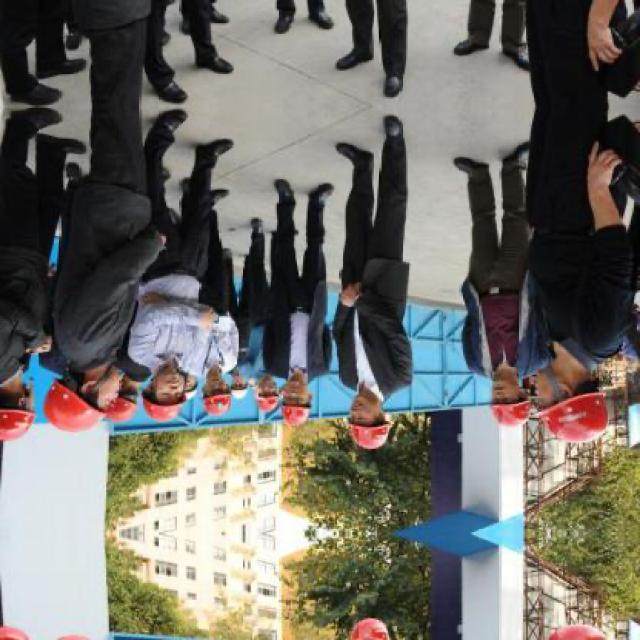con casco: (519, 304, 624, 454), (50, 344, 130, 458), (462, 352, 546, 445), (270, 348, 333, 439), (334, 385, 406, 462), (132, 341, 198, 420), (0, 325, 43, 441), (239, 374, 318, 422), (193, 366, 249, 425)
